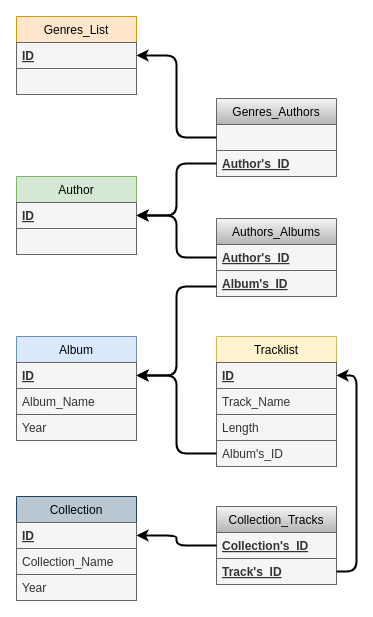
Image size: 373x617. Some labels were removed from this diagram. Each missing label, with the centre of its shape:
"Genre_ID" belongs at point (276, 137).
"Genre_Name" belongs at point (76, 81).
"Name_Nickname" belongs at point (76, 241).
